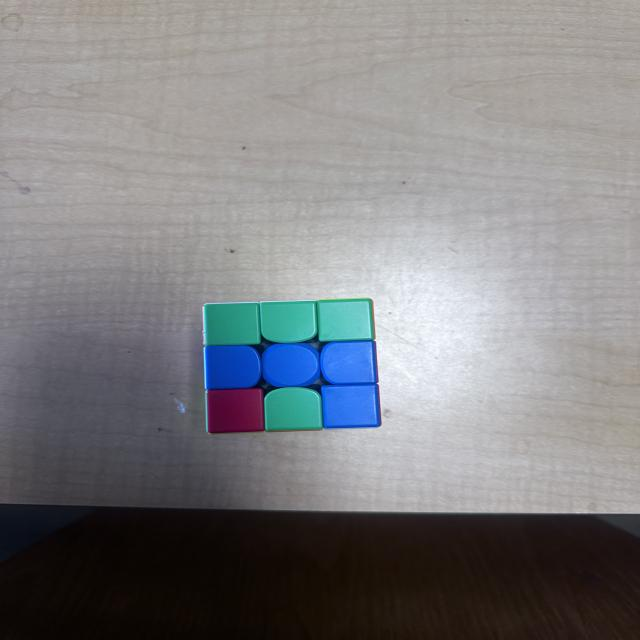sticker: (203, 386, 268, 437), (201, 301, 263, 348), (202, 344, 262, 392), (320, 384, 382, 430), (314, 298, 374, 344), (258, 300, 318, 346), (262, 387, 323, 432), (261, 343, 322, 388), (318, 341, 378, 386)
